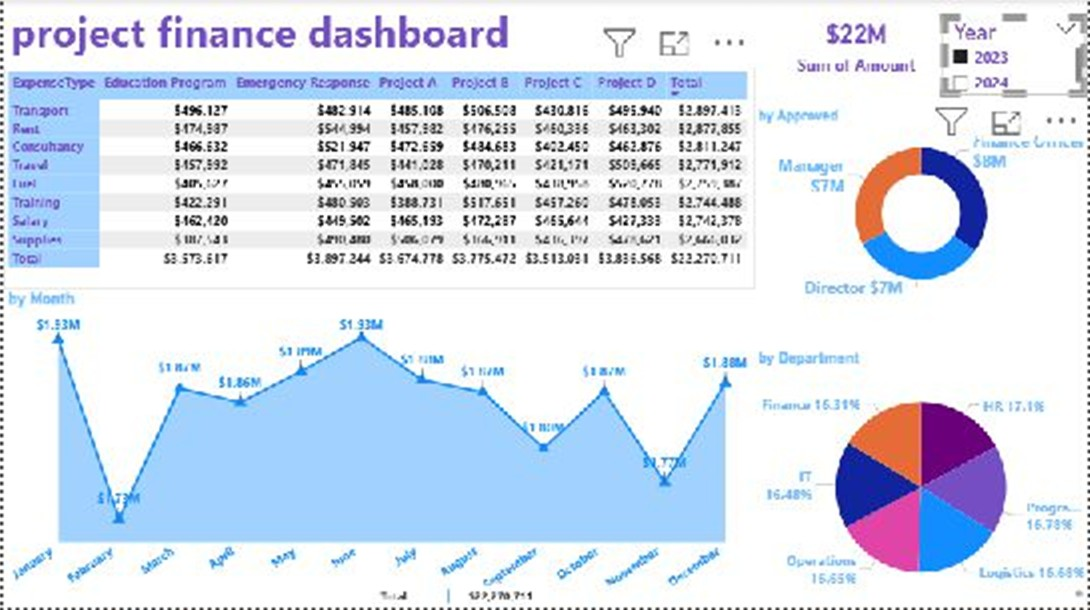

The page's visual inventory and layout, read from the dashboard file:
{"tool":"powerbi","page":{"name":"Page 1","canvas":[1280,720],"ordinal":0},"visuals":[{"type":"areaChart","title":"by Month","fields":{"Category":["finance_data_10000_rows.Date.Variation.Date Hierarchy.Month"],"Y":["Sum(finance_data_10000_rows.Amount)"]},"box":[0,343.5,885.7,376.9],"z":0},{"type":"pieChart","title":" by Department","fields":{"Category":["finance_data_10000_rows.Department"],"Y":["Sum(finance_data_10000_rows.Amount)"]},"box":[885.7,414.1,393.7,306.4],"z":1000},{"type":"donutChart","title":" by Approved","fields":{"Category":["finance_data_10000_rows.Approved By"],"Y":["Sum(finance_data_10000_rows.Amount)"]},"box":[885.7,128.1,393.7,232.1],"z":2000},{"type":"card","fields":{"Values":["Sum(finance_data_10000_rows.Amount)"]},"box":[967.4,0,154.1,102.1],"z":3000},{"type":"slicer","fields":{"Values":["finance_data_10000_rows.Year"]},"box":[1108.6,0,170.8,102.1],"z":4000},{"type":"pivotTable","fields":{"Rows":["finance_data_10000_rows.ExpenseType"],"Values":["Sum(finance_data_10000_rows.Amount)"]},"box":[434.5,692.6,844.9,27.9],"z":5000},{"type":"pivotTable","fields":{"Rows":["finance_data_10000_rows.ExpenseType"],"Columns":["finance_data_10000_rows.Project"],"Values":["Sum(finance_data_10000_rows.Amount)"]},"box":[0,79.8,885.7,263.7],"z":6000},{"type":"actionButton","box":[0,0,100,40],"z":7000},{"type":"textbox","box":[0,0,605.3,79.8],"z":8000}]}

Visuals, with their boxes in screenshot pixels (x1, y1, x2, y2), scaled from the page's 1280x720 canvas onto the 1090x610 screenshot:
"by Month" areaChart: bbox=[0, 291, 754, 609]
" by Department" pieChart: bbox=[754, 351, 1089, 609]
" by Approved" donutChart: bbox=[754, 109, 1089, 305]
card - Sum(finance_data_10000_rows.Amount): bbox=[824, 0, 955, 87]
slicer - finance_data_10000_rows.Year: bbox=[944, 0, 1089, 87]
pivotTable - finance_data_10000_rows.ExpenseType x Sum(finance_data_10000_rows.Amount): bbox=[370, 587, 1089, 609]
pivotTable - finance_data_10000_rows.ExpenseType x finance_data_10000_rows.Project: bbox=[0, 68, 754, 291]
actionButton: bbox=[0, 0, 85, 34]
textbox: bbox=[0, 0, 515, 68]
